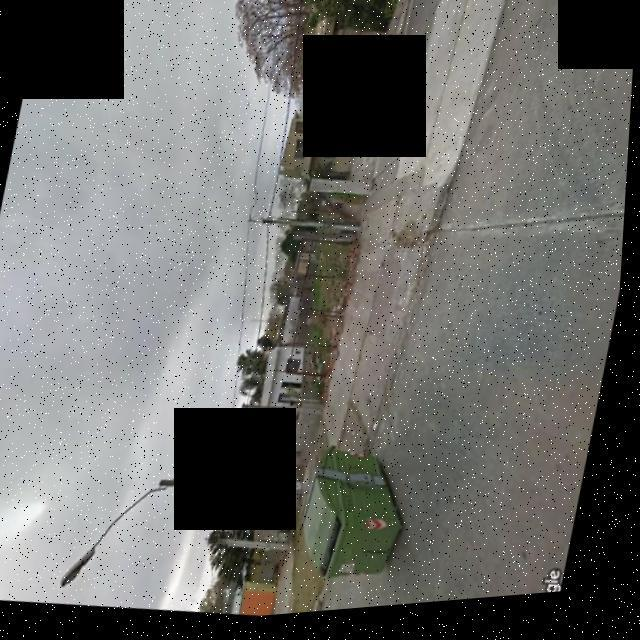bin: (281, 430, 436, 607)
